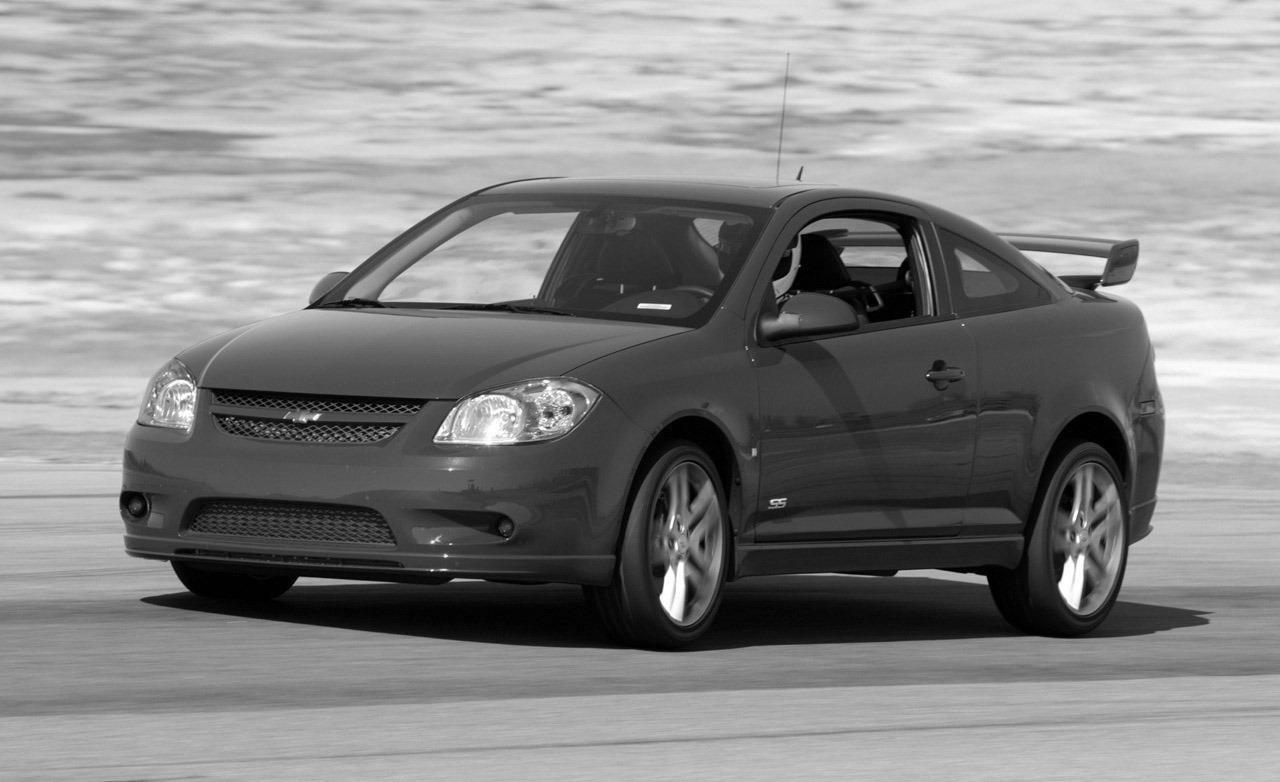car: (118, 171, 1168, 638)
